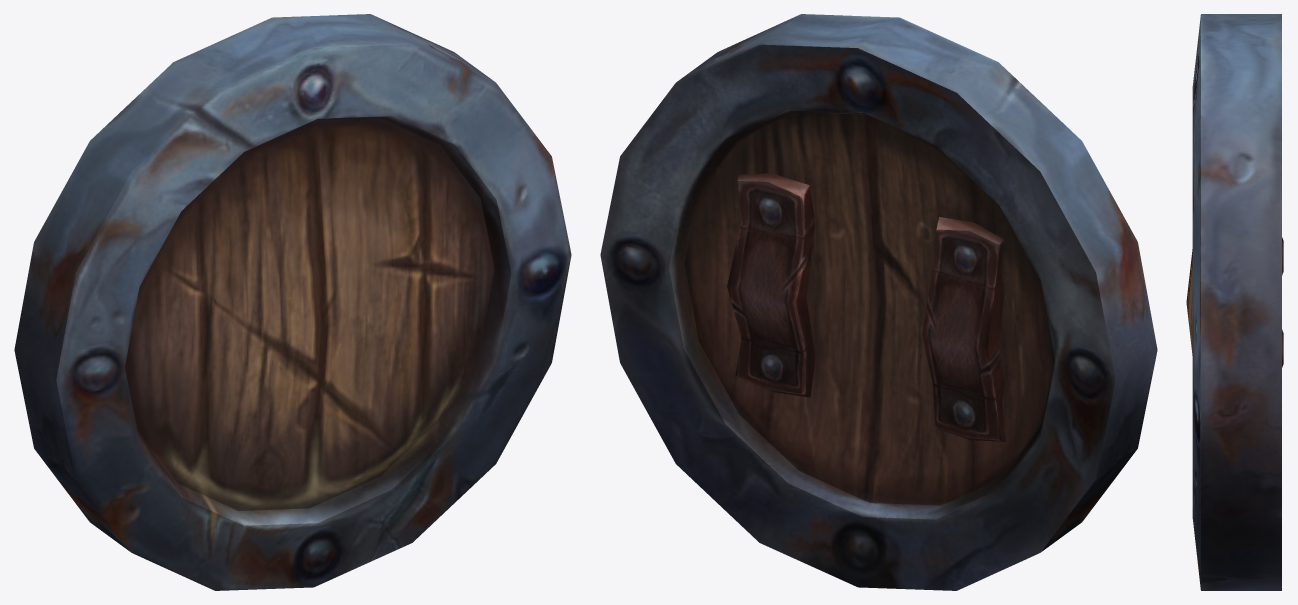
The model's file is Shield.fbx.
3 renders of one model, left to right at view 1: azimuth 30°, elevation 25°; view 2: azimuth 150°, elevation 25°; view 3: azimuth 270°, elevation 25°, orthographic. The views are drawn at different scales.
Parts seen in each view (by area): view 1: Shield; view 2: Shield; view 3: Shield.
Part boxes in pixels (x1,y1,x2,y2): Shield: [14, 14, 571, 590]; Shield: [600, 14, 1157, 590]; Shield: [1186, 14, 1283, 590].
Bounding box in the file's own units: 200 × 200 × 33.61.
Materials: 1 (1 with a texture image).
